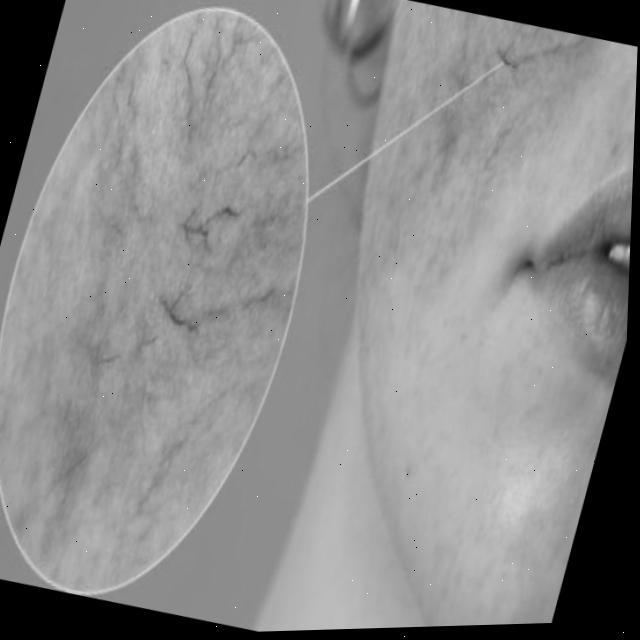Rosacea: (370, 36, 555, 267)
